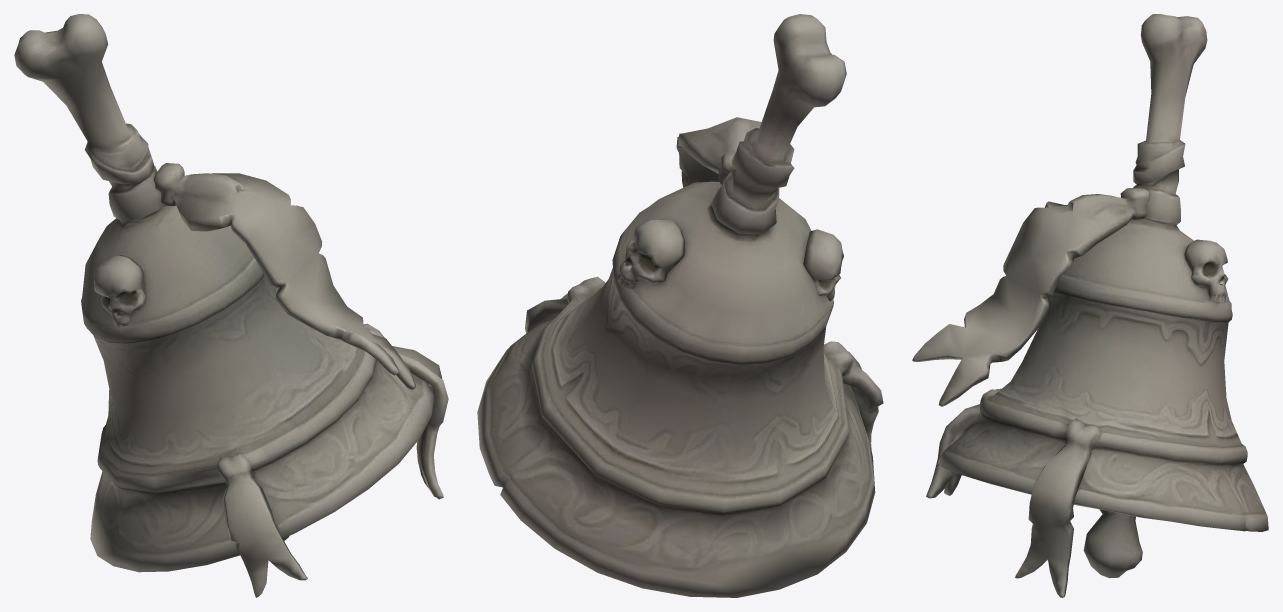
File: gear_mourning_bell.glb
3 views of the same model, side by side, from view 1: azimuth 30°, elevation 25°; view 2: azimuth 150°, elevation 25°; view 3: azimuth 270°, elevation 25° (orthographic). The views are drawn at different scales.
Parts seen in each view (by area): view 1: tripo_node_259ed897-57d0-4cf2-8869-2a306172a908; view 2: tripo_node_259ed897-57d0-4cf2-8869-2a306172a908; view 3: tripo_node_259ed897-57d0-4cf2-8869-2a306172a908.
Part boxes in pixels (x1,y1,x2,y2): tripo_node_259ed897-57d0-4cf2-8869-2a306172a908: (14, 14, 448, 597); tripo_node_259ed897-57d0-4cf2-8869-2a306172a908: (477, 14, 883, 597); tripo_node_259ed897-57d0-4cf2-8869-2a306172a908: (912, 14, 1268, 597).
Bounding box in the file's own units: 0.2901 × 0.42 × 0.277.
1 material, 1 textured.
